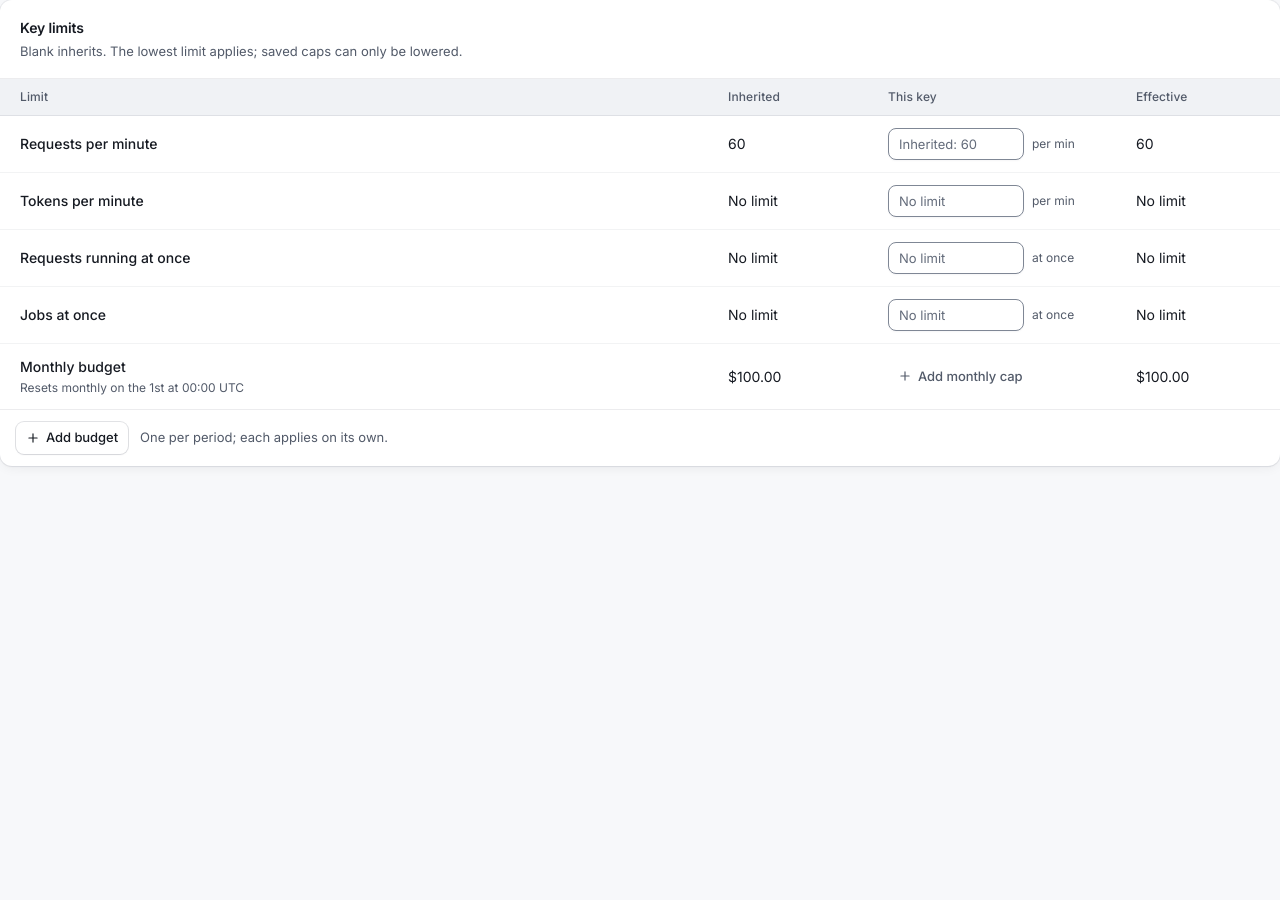
Test: Policy rejections in the limits editor › explains period_change_not_allowed and stored_rate_loosen_not_allowed
This screenshot has width=1280, height=900.
Type "10" into the field labelled "Requests per minute · This key" at coordinates (956, 144), box [888,128,1024,160]
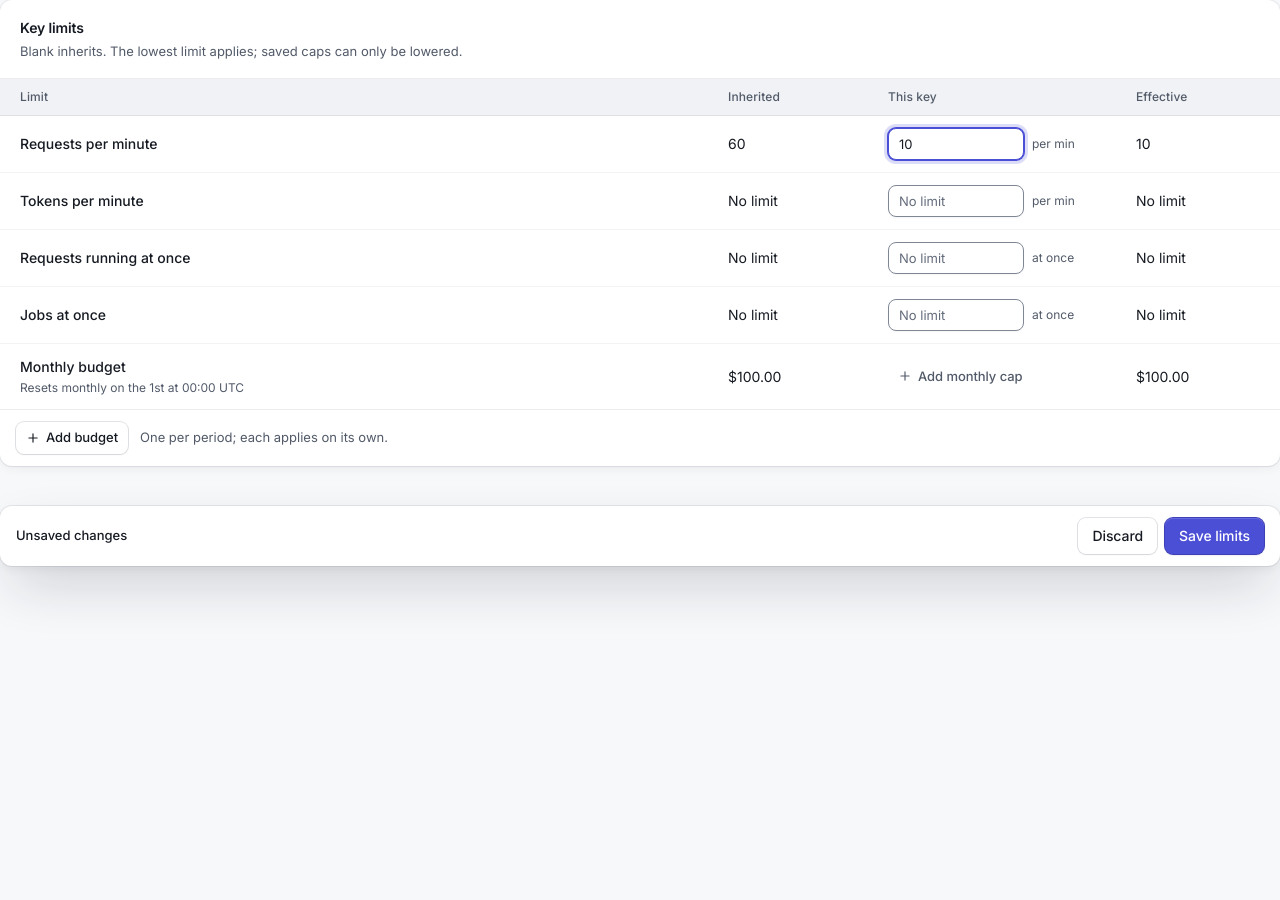
Click the button "Save limits" at coordinates (1214, 536), box [1165,518,1264,554]
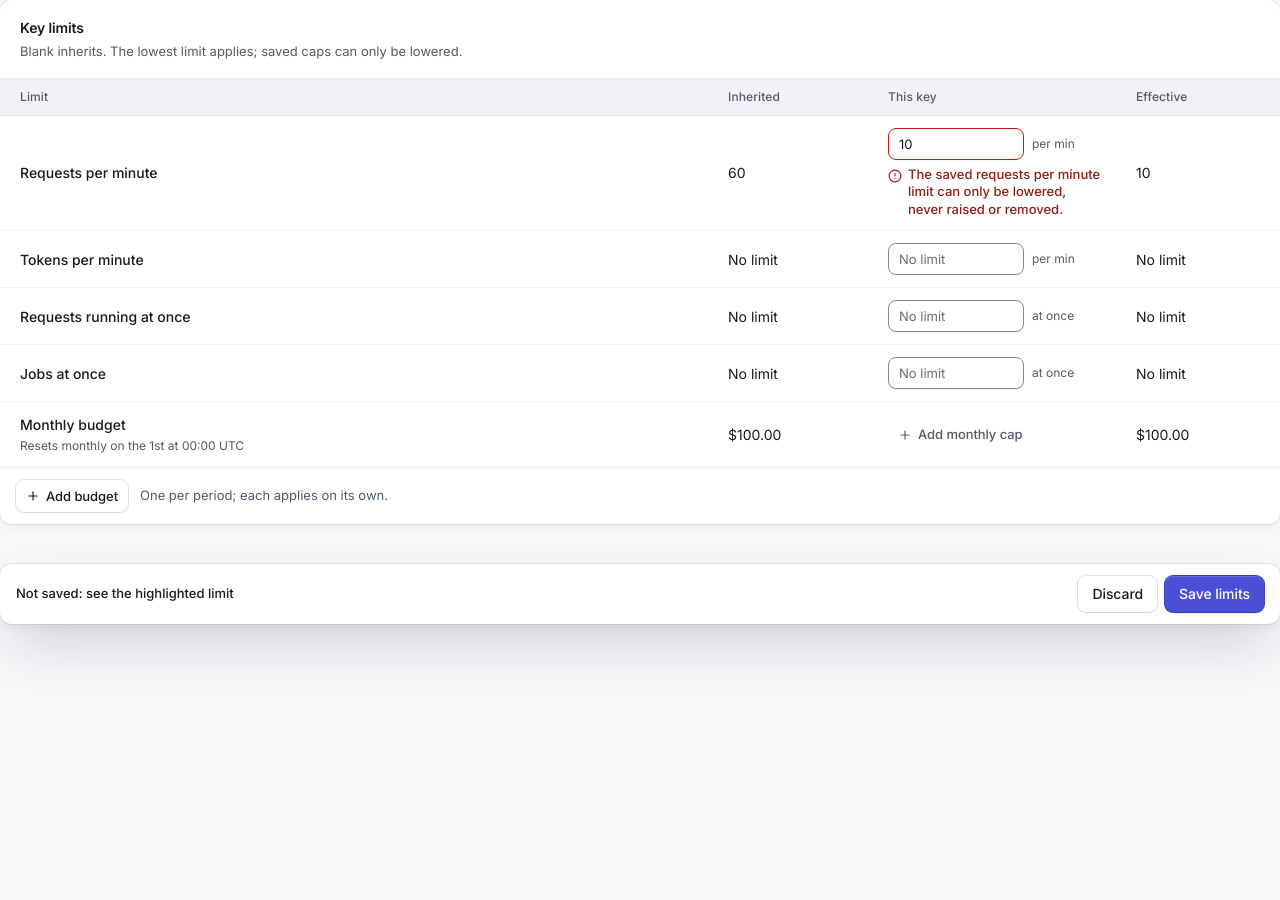
Result: the text "The saved requests per minute limit can only be lowered, never raised or removed." is shown at [908,166,1100,217]
Replace the text in the field labelled "Requests per minute · This key" with "9" at coordinates (956, 144), box [888,128,1024,160]
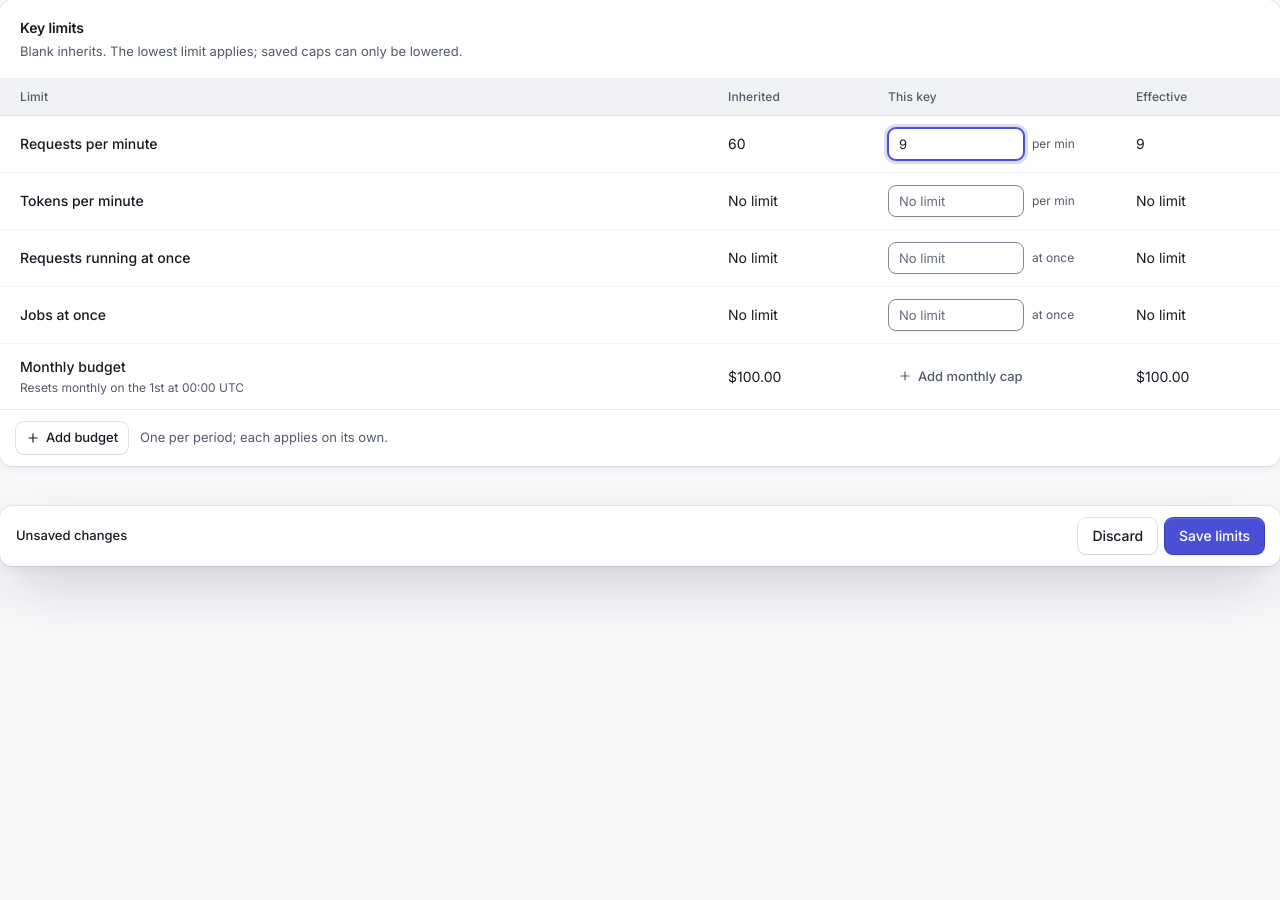
Click the button "Save limits" at coordinates (1214, 536), box [1165,518,1264,554]
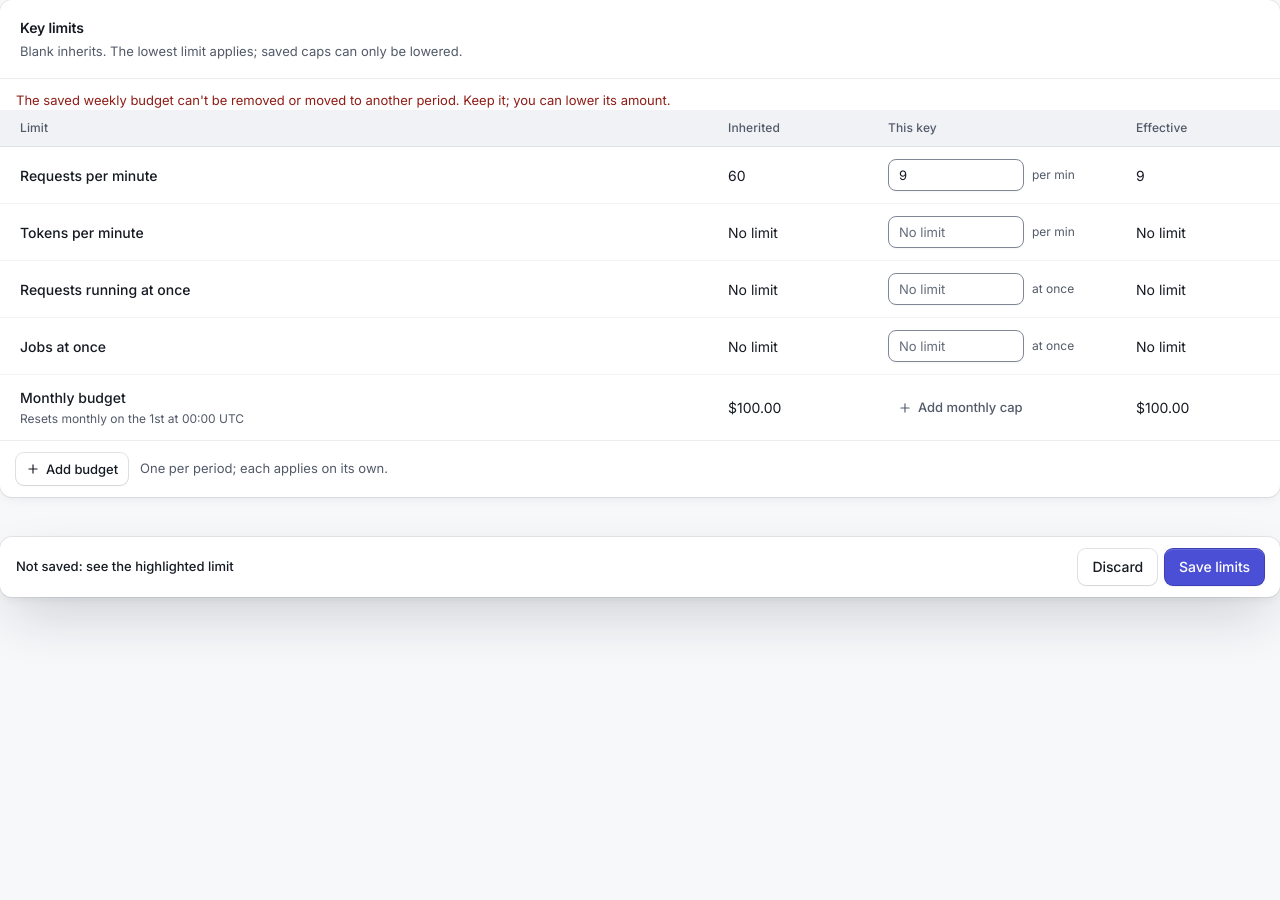
Result: the list item "The saved weekly budget can't be removed or moved to another period. Keep it; you can lower its amount." is shown at [16,92,670,108]
